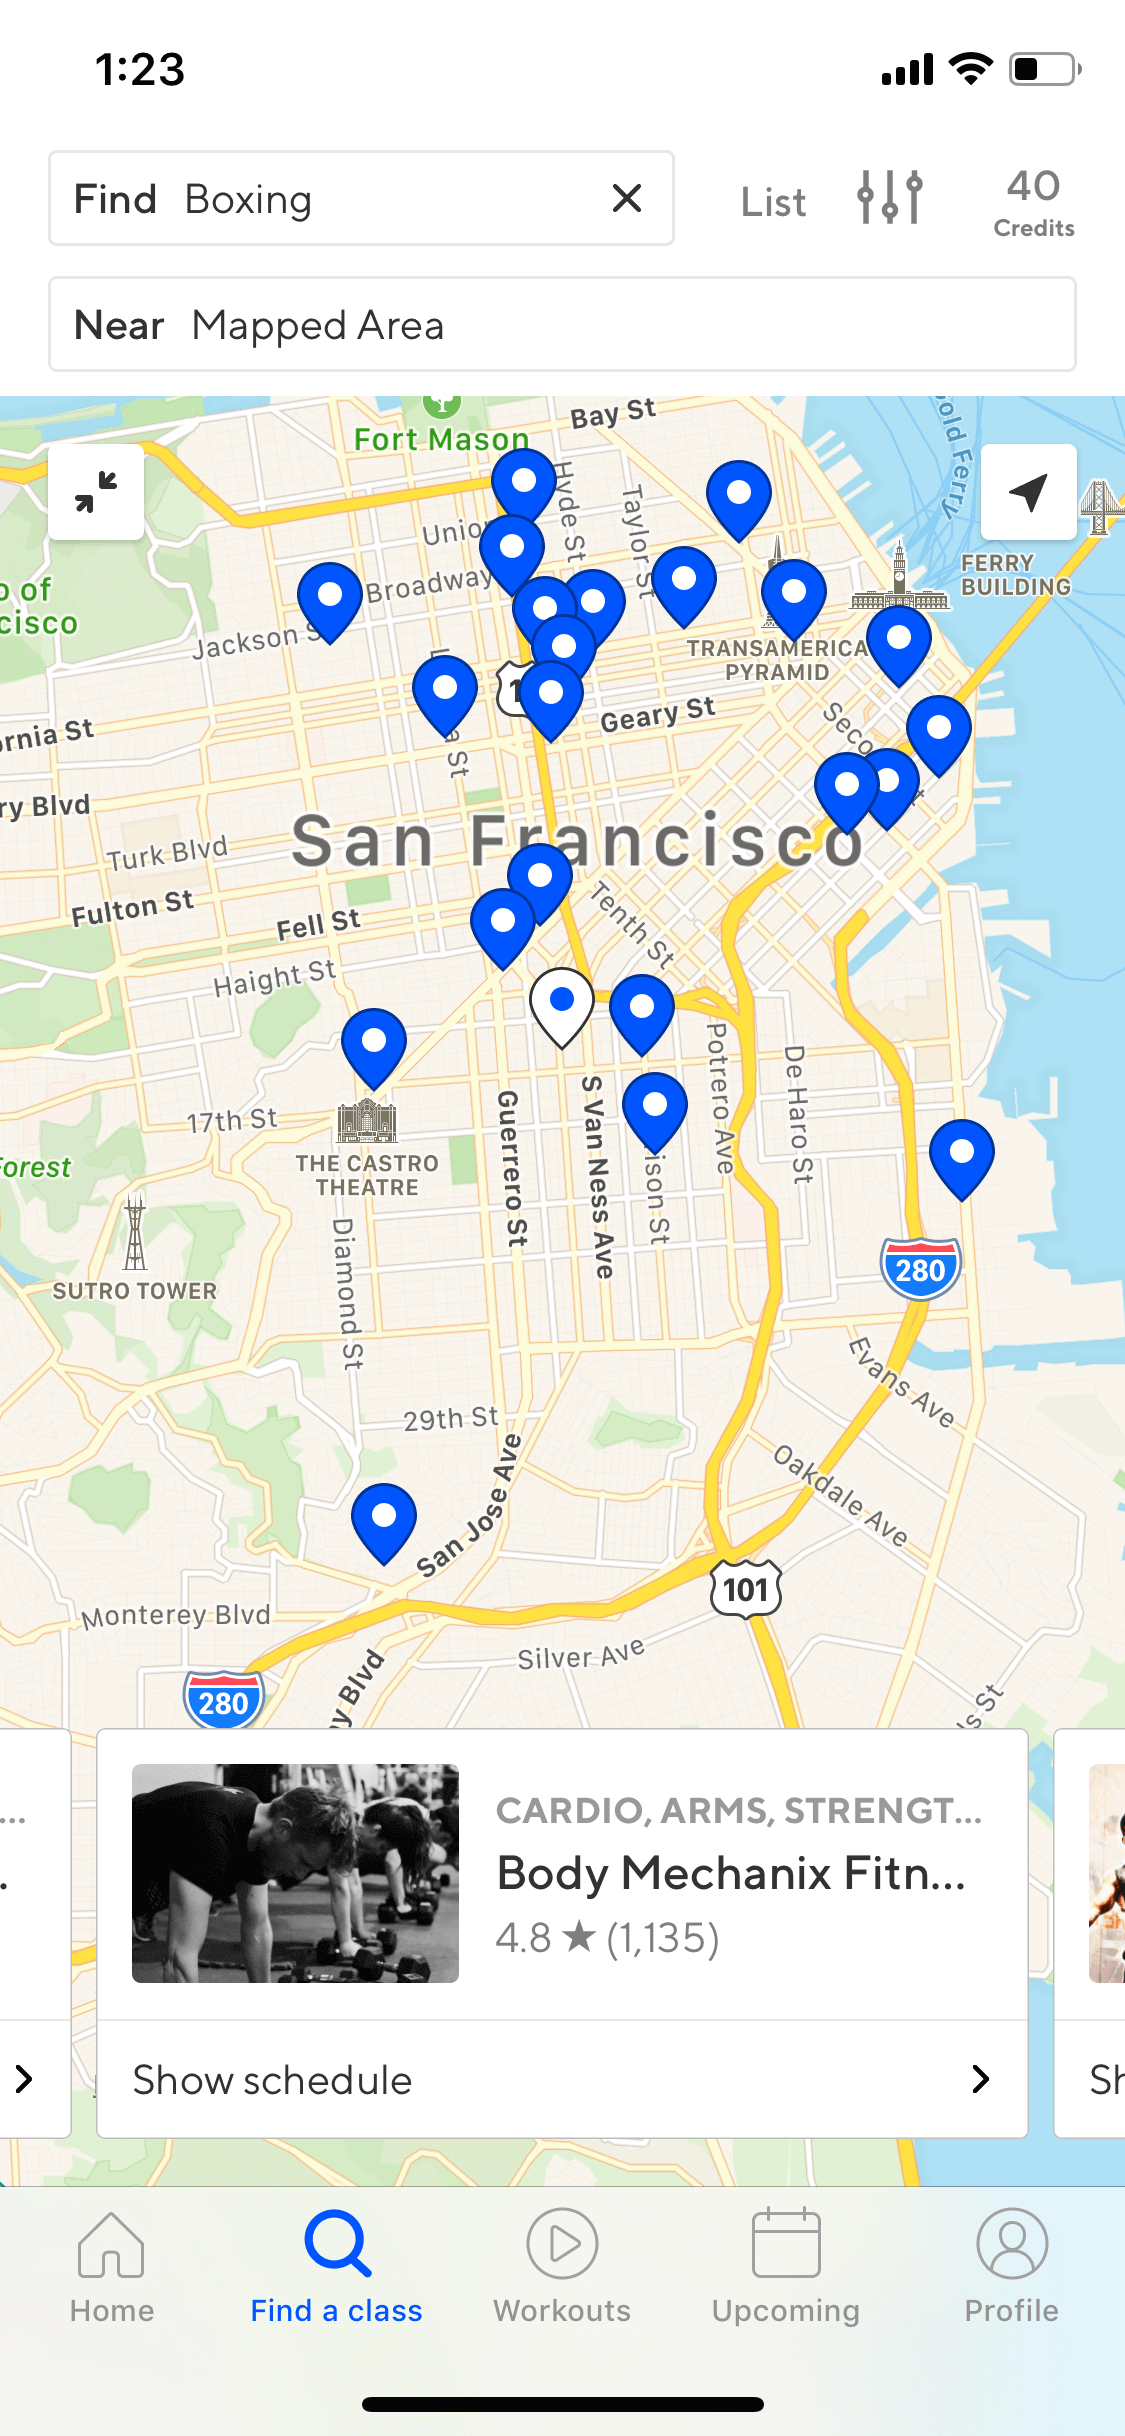Buttons: (712, 137, 831, 255), (973, 137, 1085, 253), (839, 137, 928, 250)
FAB (Floating Action Button): (967, 433, 1099, 561), (30, 430, 162, 555)
